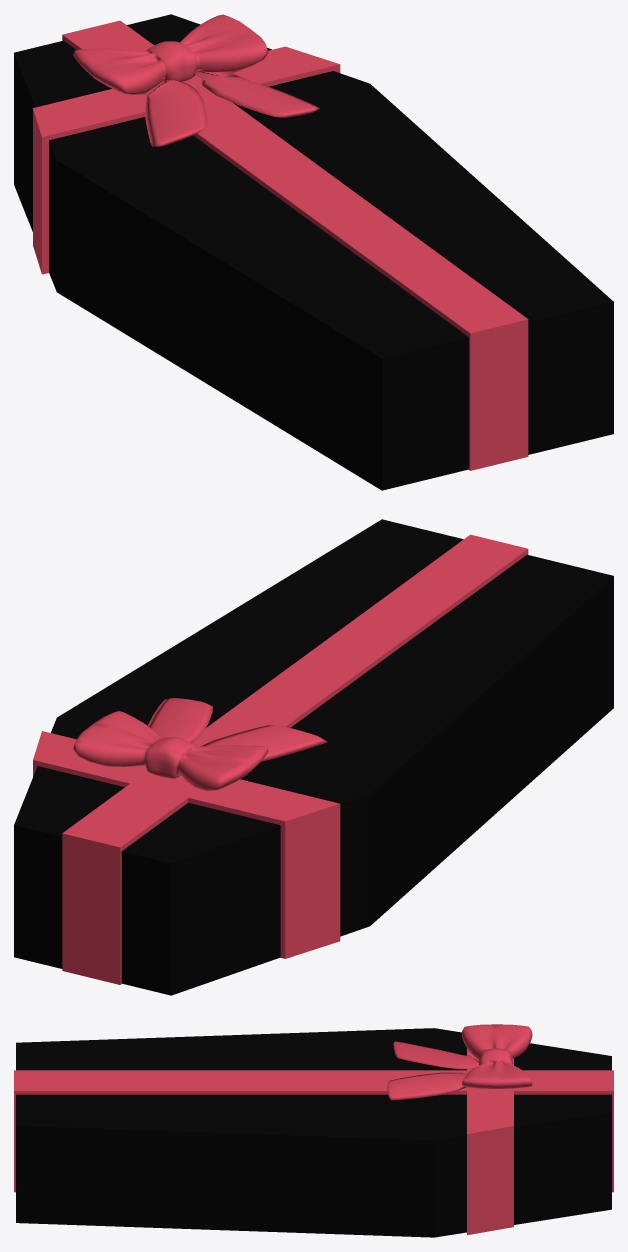
File: coffin.fbx
The picture shows the model from 3 angles, top to bottom: view 1: azimuth 30°, elevation 25°; view 2: azimuth 150°, elevation 25°; view 3: azimuth 270°, elevation 25°; orthographic projection. The views are drawn at different scales.
Visible parts, largest first — view 1: Cube.005, Cube.001; view 2: Cube.005, Cube.001; view 3: Cube.005, Cube.001.
Part boxes in pixels (x1,y1,x2,y2): Cube.005: (14,14,613,490); Cube.001: (73,14,319,146); Cube.005: (14,519,613,995); Cube.001: (73,698,327,791); Cube.005: (14,1028,613,1237); Cube.001: (387,1024,532,1100).
Bounding box in the file's own units: 244 × 133 × 551.
